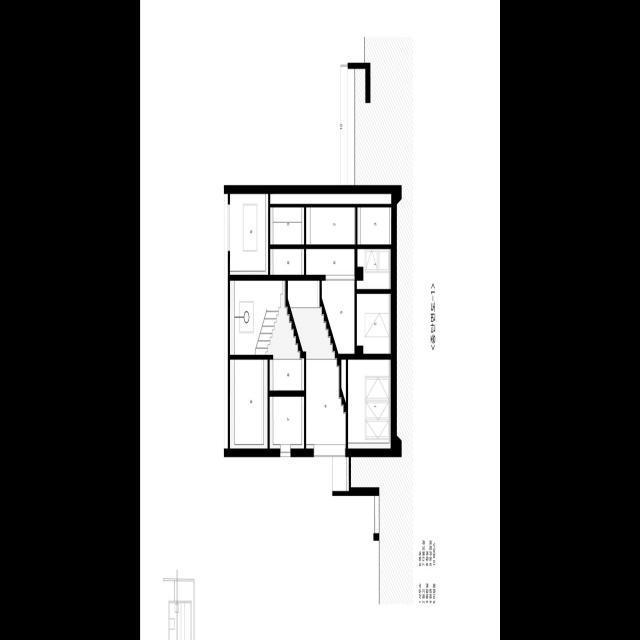background: (140, 0, 500, 640)
space_bedroom: (230, 359, 268, 448)
space_front: (306, 350, 346, 448)
space_multipurpose_space: (270, 396, 304, 448)
space_other: (348, 359, 391, 449), (230, 193, 268, 275), (322, 280, 355, 354), (357, 293, 391, 354), (306, 206, 355, 244), (357, 248, 391, 289), (270, 193, 391, 204), (306, 248, 355, 275), (270, 358, 304, 390), (270, 248, 304, 274), (341, 359, 346, 403)
space_staircase: (230, 280, 300, 359), (288, 280, 333, 351)
space_toilet: (270, 206, 304, 244), (357, 206, 391, 244)
